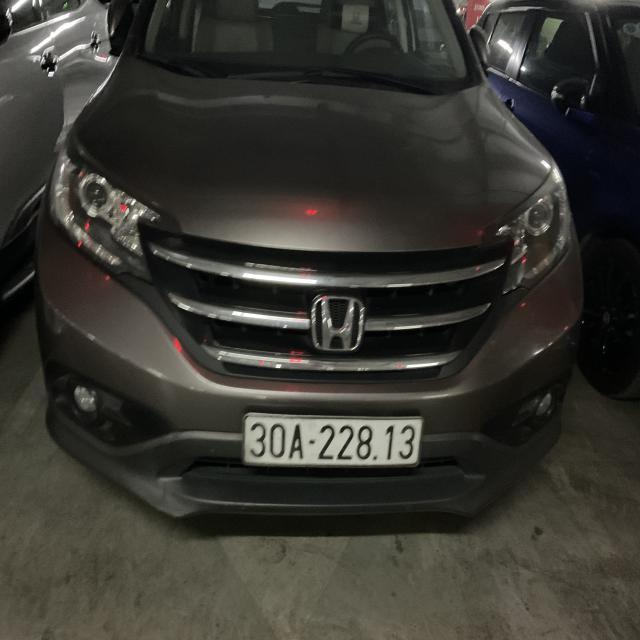license: (240, 411, 423, 468)
